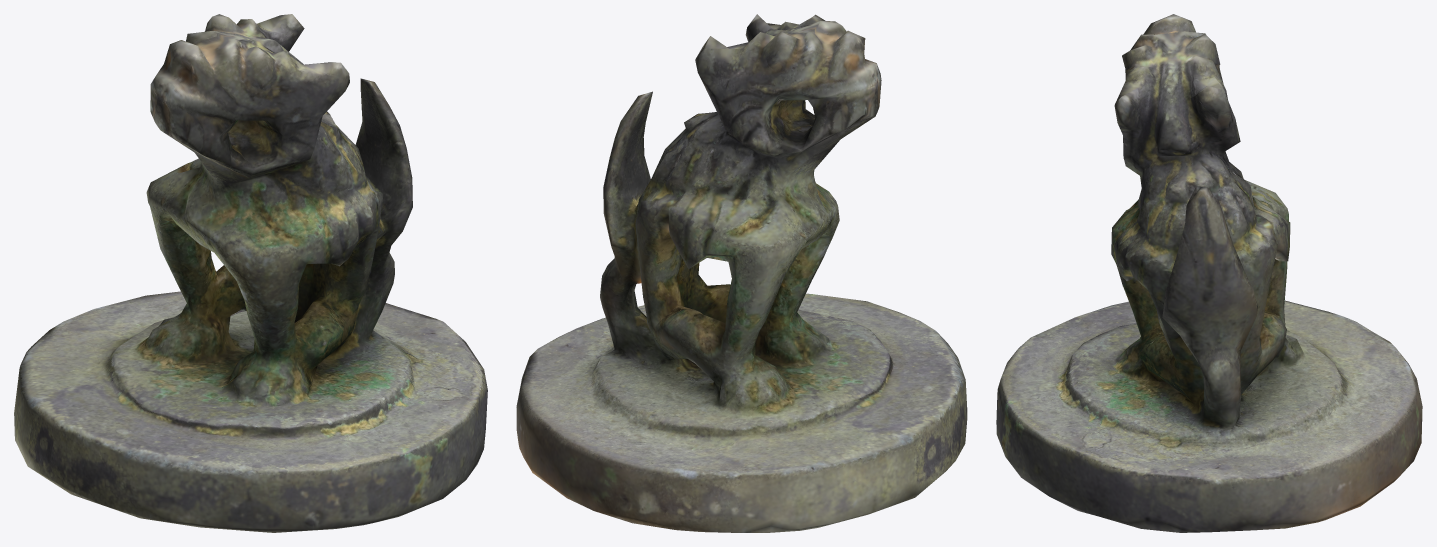
Rendered from SM_Bronze_Seal.fbx.
The picture shows the model from 3 angles, left to right: view 1: azimuth 30°, elevation 25°; view 2: azimuth 150°, elevation 25°; view 3: azimuth 270°, elevation 25°; orthographic projection. The views are drawn at different scales.
Visible parts, largest first — view 1: KCDF_2022_prop_Bronze_Seal_Mesh; view 2: KCDF_2022_prop_Bronze_Seal_Mesh; view 3: KCDF_2022_prop_Bronze_Seal_Mesh.
Boxes of the visible parts, x1,y1,x2,y2 form: KCDF_2022_prop_Bronze_Seal_Mesh: [14, 14, 487, 532]; KCDF_2022_prop_Bronze_Seal_Mesh: [516, 14, 967, 532]; KCDF_2022_prop_Bronze_Seal_Mesh: [996, 14, 1422, 532].
Size of the model in its own units: 7.37 by 7.62 by 7.38.
Materials: 1 (1 with a texture image).
